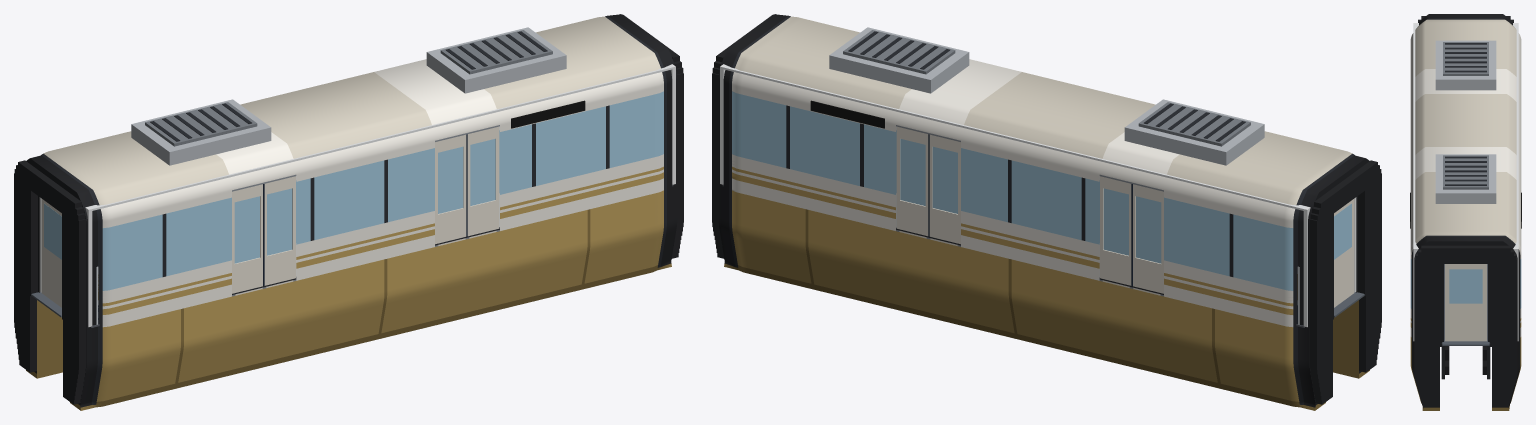
Rendered from palm_jumeirah_car.obj.
3 renders of one model, left to right at view 1: azimuth 30°, elevation 25°; view 2: azimuth 150°, elevation 25°; view 3: azimuth 270°, elevation 25°, orthographic. The views are drawn at different scales.
Visible parts, largest first — view 1: SHELL, SHELL_diaphragm, SHELL_roof, EXTERNAL_DOOR_4_CG_DR1_TOGGLE_TL_-0.64_X, EXTERNAL_DOOR_10_CG_DR2_TOGGLE_TL_-0.64_X, EXTERNAL_DOOR_11_CG_DR2_TOGGLE_TL_0.64_X, EXTERNAL_DOOR_5_CG_DR1_TOGGLE_TL_0.64_X, SHELL_ceiling, CONNECTING_DOOR_1_CG_CR_TOGGLE_TL_0.98_Z, SHELL_end, SHELL_sign; view 2: SHELL, SHELL_diaphragm, SHELL_roof, EXTERNAL_DOOR_7_CG_DL1_TOGGLE_TL_-0.64_X, EXTERNAL_DOOR_13_CG_DL2_TOGGLE_TL_-0.64_X, EXTERNAL_DOOR_14_CG_DL2_TOGGLE_TL_0.64_X, EXTERNAL_DOOR_8_CG_DL1_TOGGLE_TL_0.64_X, SHELL_ceiling, CONNECTING_DOOR_1_CG_CR_TOGGLE_TL_0.98_Z, SHELL_end, SHELL_sign; view 3: SHELL, SHELL_diaphragm, SHELL_roof, CONNECTING_DOOR_2_CG_CF_TOGGLE_TL_0.98_Z, SHELL_ceiling, BOGEY_FRONT, SHELL_end, SHELL_gangway, SHELL_floor.
Part boxes in pixels (<box>): SHELL: <box>26,14,677,410</box>; SHELL_diaphragm: <box>14,14,683,404</box>; SHELL_roof: <box>131,27,566,165</box>; EXTERNAL_DOOR_4_CG_DR1_TOGGLE_TL_-0.64_X: <box>232,184,264,293</box>; EXTERNAL_DOOR_10_CG_DR2_TOGGLE_TL_-0.64_X: <box>435,134,467,244</box>; EXTERNAL_DOOR_11_CG_DR2_TOGGLE_TL_0.64_X: <box>467,126,499,236</box>; EXTERNAL_DOOR_5_CG_DR1_TOGGLE_TL_0.64_X: <box>264,176,295,285</box>; SHELL_ceiling: <box>25,65,673,210</box>; CONNECTING_DOOR_1_CG_CR_TOGGLE_TL_0.98_Z: <box>41,199,61,307</box>; SHELL_end: <box>39,64,675,327</box>; SHELL_sign: <box>511,100,585,128</box>; SHELL: <box>718,14,1369,410</box>; SHELL_diaphragm: <box>712,14,1381,404</box>; SHELL_roof: <box>829,27,1264,165</box>; EXTERNAL_DOOR_7_CG_DL1_TOGGLE_TL_-0.64_X: <box>1131,184,1163,293</box>; EXTERNAL_DOOR_13_CG_DL2_TOGGLE_TL_-0.64_X: <box>928,134,960,244</box>; EXTERNAL_DOOR_14_CG_DL2_TOGGLE_TL_0.64_X: <box>896,126,928,236</box>; EXTERNAL_DOOR_8_CG_DL1_TOGGLE_TL_0.64_X: <box>1100,176,1131,285</box>; SHELL_ceiling: <box>722,65,1370,210</box>; CONNECTING_DOOR_1_CG_CR_TOGGLE_TL_0.98_Z: <box>1334,199,1354,307</box>; SHELL_end: <box>720,64,1356,327</box>; SHELL_sign: <box>810,100,884,128</box>; SHELL: <box>1410,14,1521,410</box>; SHELL_diaphragm: <box>1414,16,1517,407</box>; SHELL_roof: <box>1435,40,1496,203</box>; CONNECTING_DOOR_2_CG_CF_TOGGLE_TL_0.98_Z: <box>1445,264,1486,341</box>; SHELL_ceiling: <box>1413,24,1518,247</box>; BOGEY_FRONT: <box>1441,344,1490,379</box>; SHELL_end: <box>1413,23,1518,341</box>; SHELL_gangway: <box>1442,339,1489,345</box>; SHELL_floor: <box>1444,264,1487,339</box>.
Bounding box in the file's own units: 13.12 × 4.81 × 2.66.
1 material, 1 textured.
